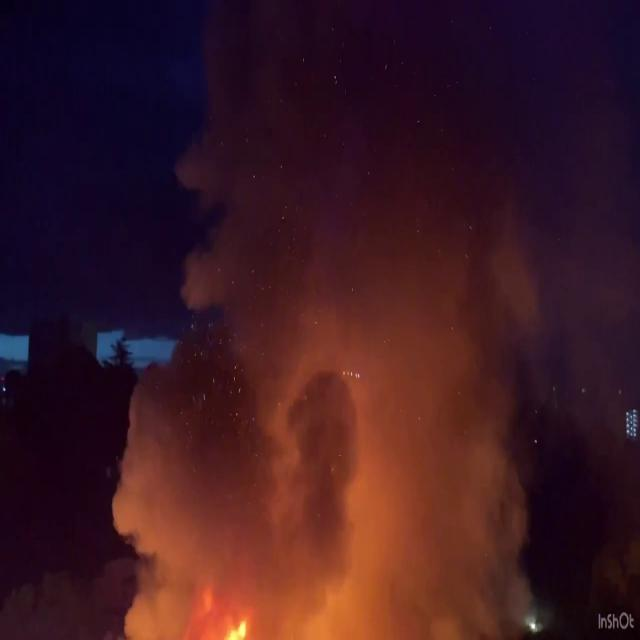Smoke: (86, 22, 548, 639)
